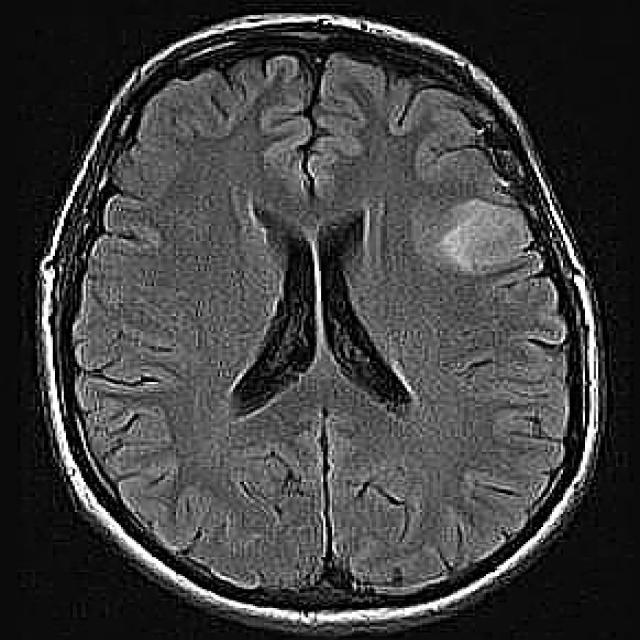Tumor-Cell: (410, 174, 538, 285)
